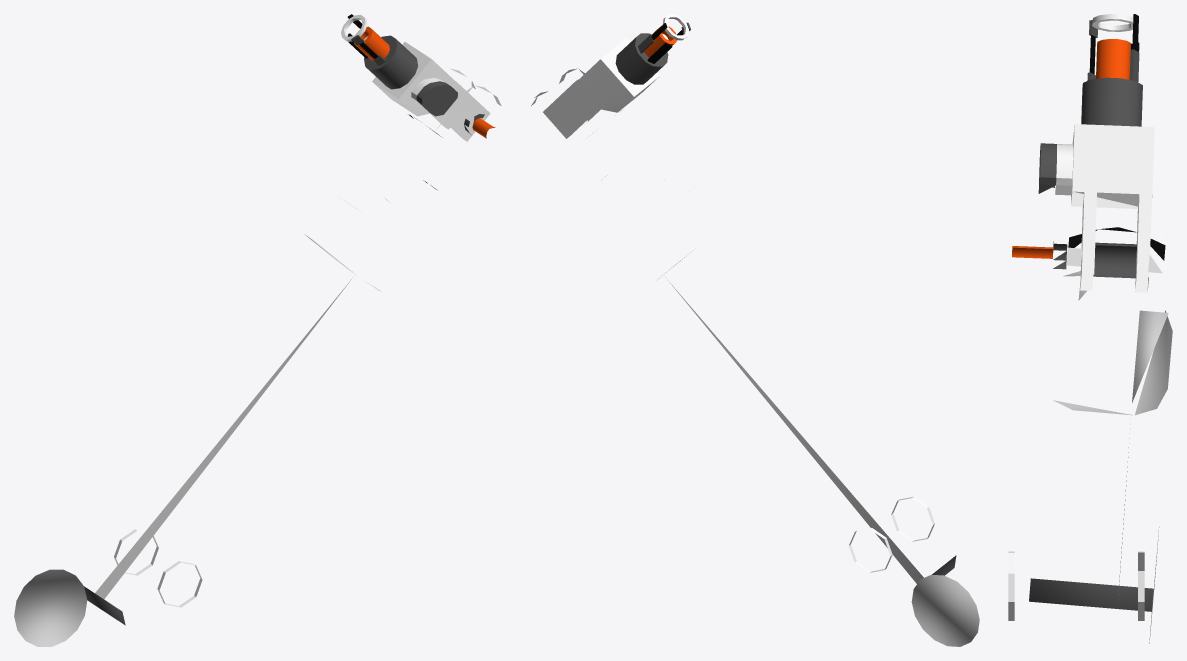
File: Brazo1.3.obj
3 views of the same model, side by side, from view 1: azimuth 30°, elevation 25°; view 2: azimuth 150°, elevation 25°; view 3: azimuth 270°, elevation 25° (orthographic). The views are drawn at different scales.
Visible parts, largest first — view 1: Brazo1.3; view 2: Brazo1.3; view 3: Brazo1.3.
Part boxes in pixels (x1,y1,x2,y2): Brazo1.3: [14, 14, 501, 646]; Brazo1.3: [531, 14, 979, 646]; Brazo1.3: [1008, 14, 1172, 643].
Size of the model in its own units: 3.85 by 4.53 by 0.8001.
